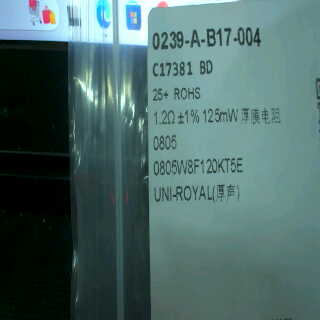1.2R: (150, 106, 177, 154)
